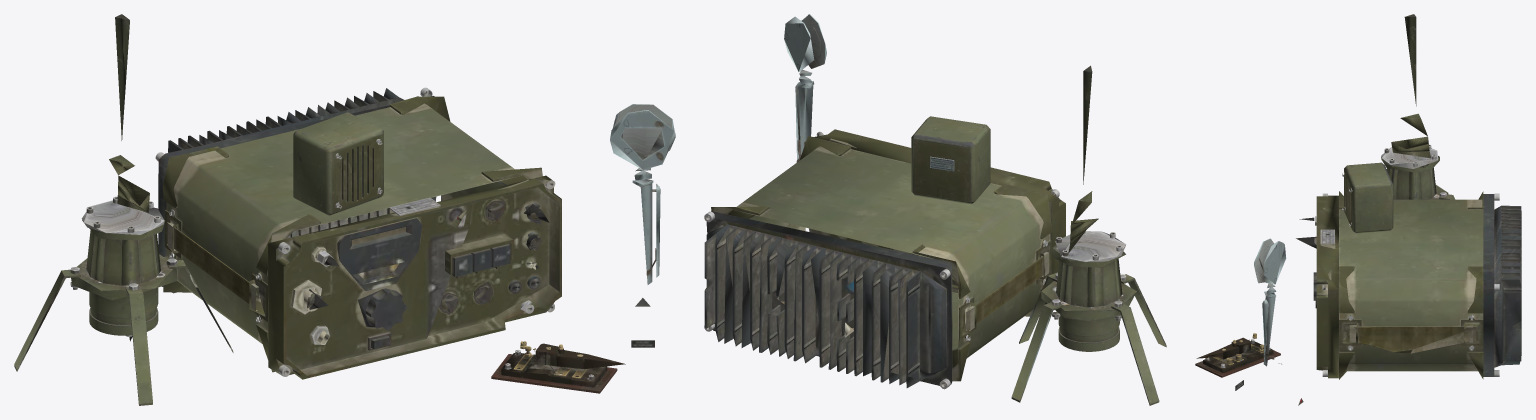
Rendered from vintage_radio_transceiver.glb.
The picture shows the model from 3 angles, left to right: view 1: azimuth 30°, elevation 25°; view 2: azimuth 150°, elevation 25°; view 3: azimuth 270°, elevation 25°; orthographic projection. The views are drawn at different scales.
Visible parts, largest first — view 1: vintage_radio_transceiver, vintage_radio_transceiver_cable; view 2: vintage_radio_transceiver, vintage_radio_transceiver_cable; view 3: vintage_radio_transceiver, vintage_radio_transceiver_cable.
Part boxes in pixels (x1,y1,x2,y2): vintage_radio_transceiver: (155, 87, 561, 379); vintage_radio_transceiver_cable: (14, 14, 675, 405); vintage_radio_transceiver: (704, 129, 1065, 389); vintage_radio_transceiver_cable: (784, 14, 1166, 405); vintage_radio_transceiver: (1313, 191, 1521, 379); vintage_radio_transceiver_cable: (1195, 14, 1455, 405).
Bounding box in the file's own units: 0.548 × 0.3317 × 0.4102.
2 materials, 2 textured.
